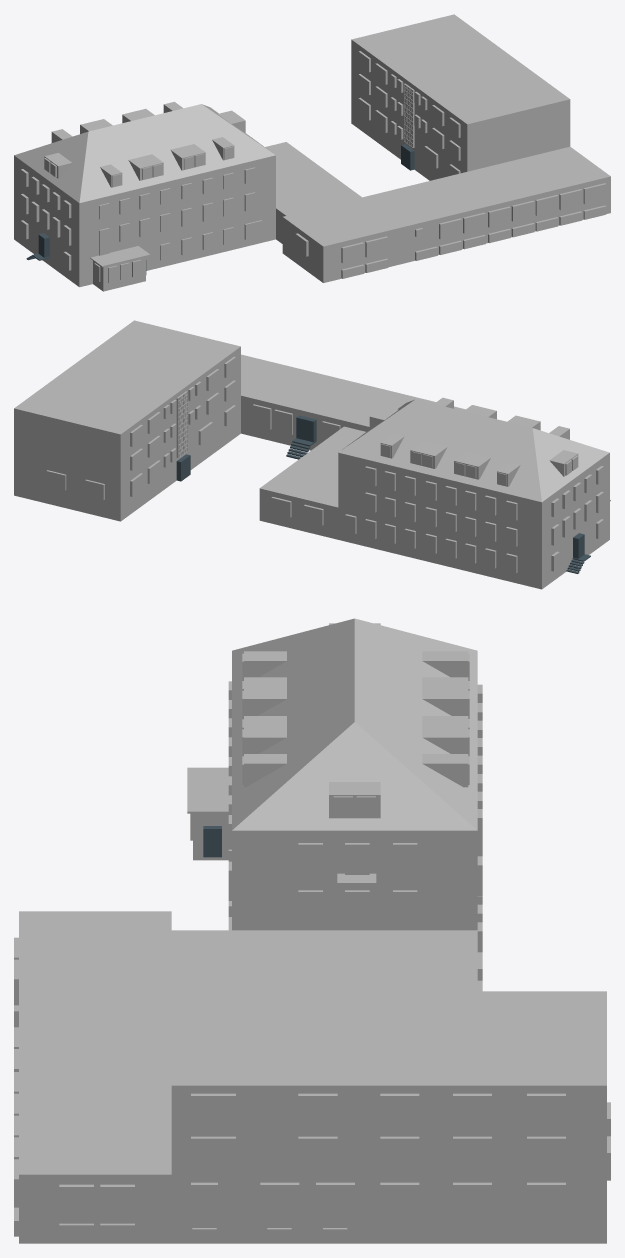
3 renders of one model, top to bottom at view 1: azimuth 30°, elevation 25°; view 2: azimuth 150°, elevation 25°; view 3: azimuth 270°, elevation 25°, orthographic. The views are drawn at different scales.
Visible parts, largest first — view 1: C20_21; view 2: C20_21, Entrance_2, Stairs; view 3: C20_21.
Part boxes in pixels (<box>): C20_21: <box>14,14,610,291</box>; C20_21: <box>14,320,610,589</box>; Entrance_2: <box>296,415,316,442</box>; Stairs: <box>286,438,316,459</box>; C20_21: <box>14,618,610,1243</box>.
Bounding box in the file's own units: 54.67 × 13.02 × 30.84.
